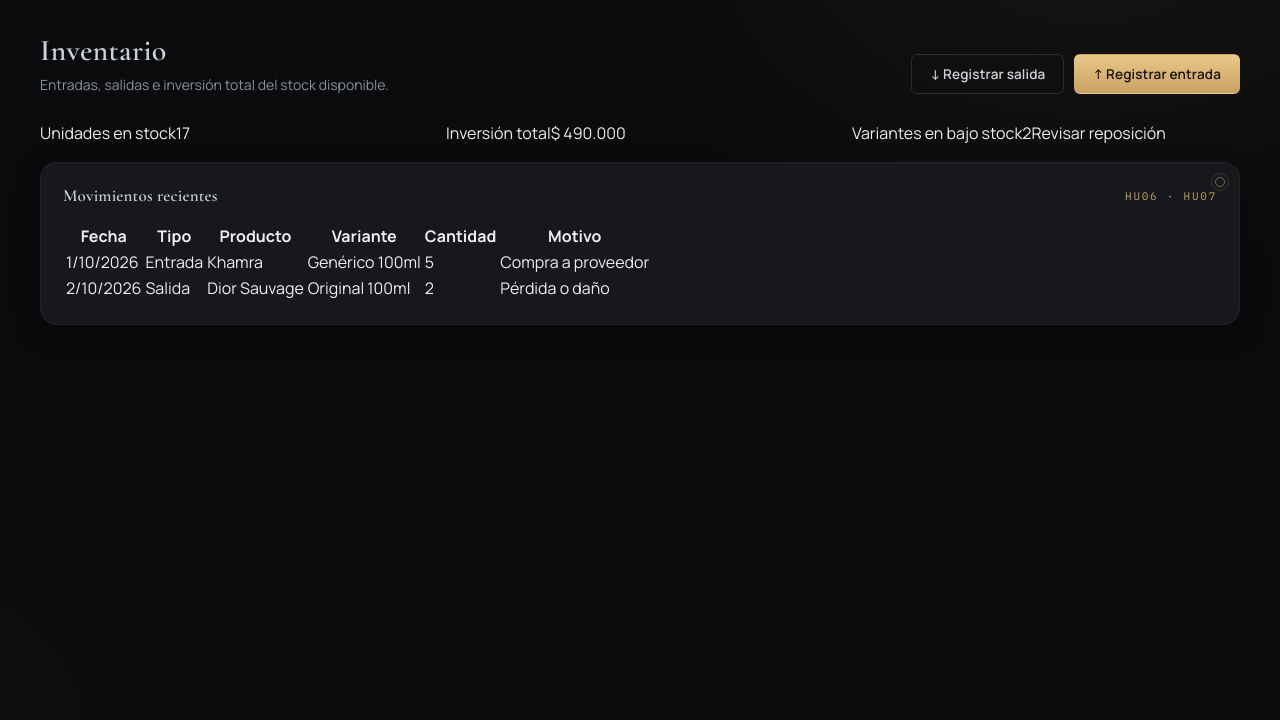
Test: Inventario: formulario de movimientos › deshabilita el botón mientras guarda
The width and height of the screenshot is (1280, 720).
Expected: the text "Unidades en stock" is shown, x1=40 y1=122 x2=176 y2=144
Click the button "↑ Registrar entrada" at (1157, 74), box x1=1074 y1=54 x2=1240 y2=94
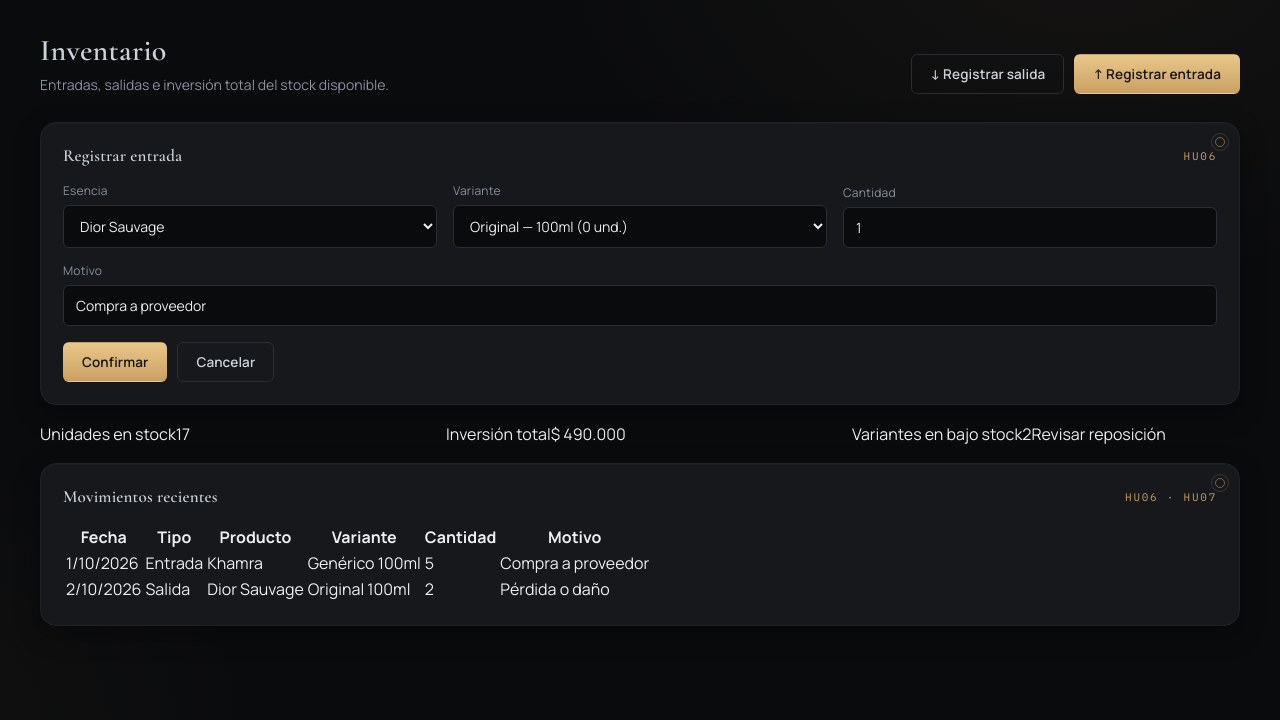
Click the button "Confirmar" at (115, 362), box x1=63 y1=342 x2=167 y2=382
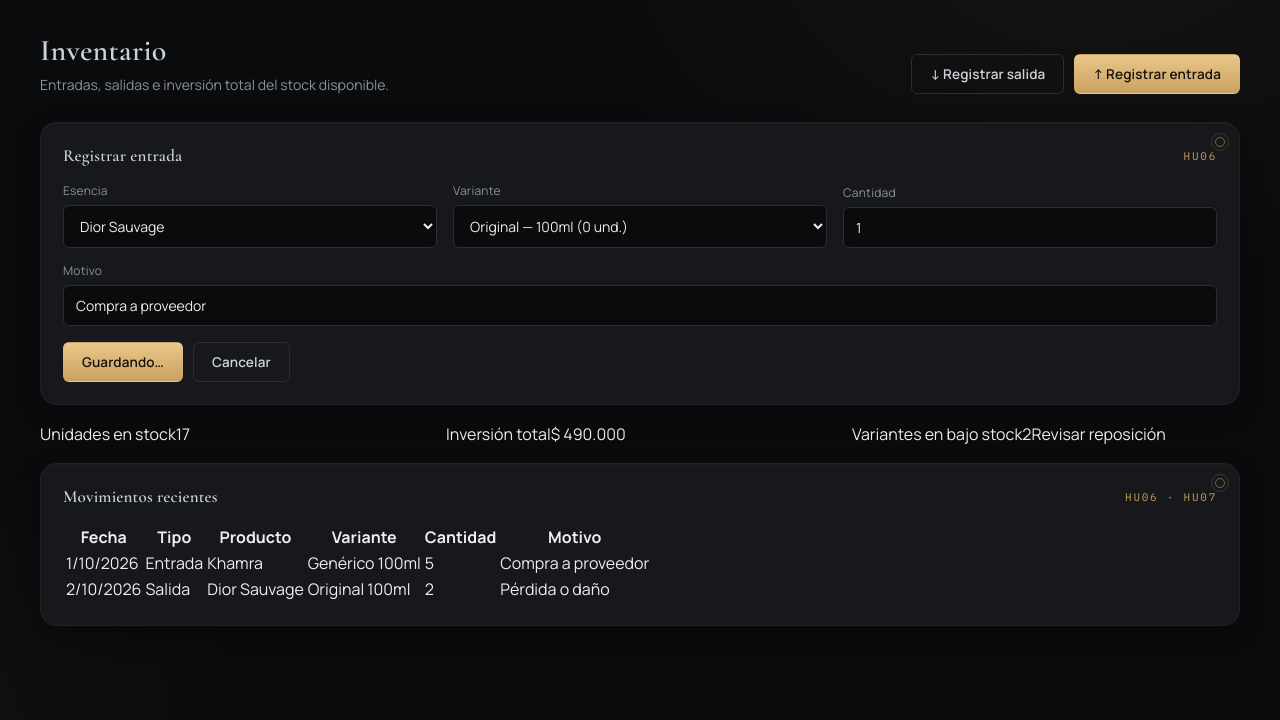
Now the button "Guardando…" is disabled, box x1=63 y1=342 x2=183 y2=382
